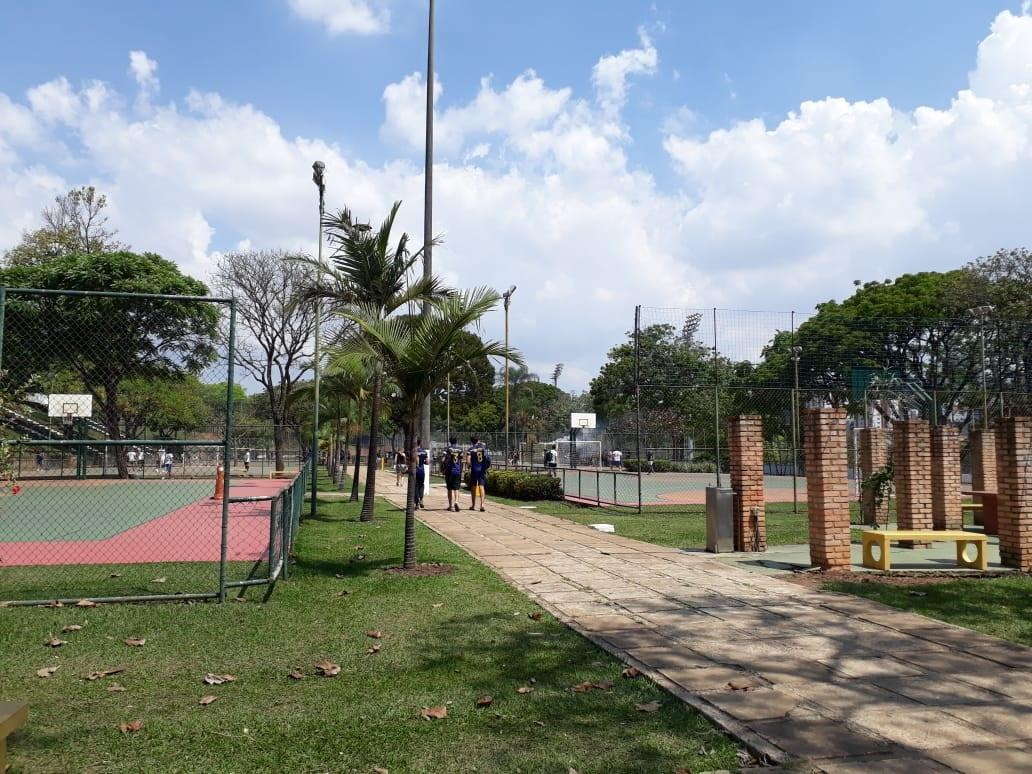Smoke: (557, 432, 595, 453)
